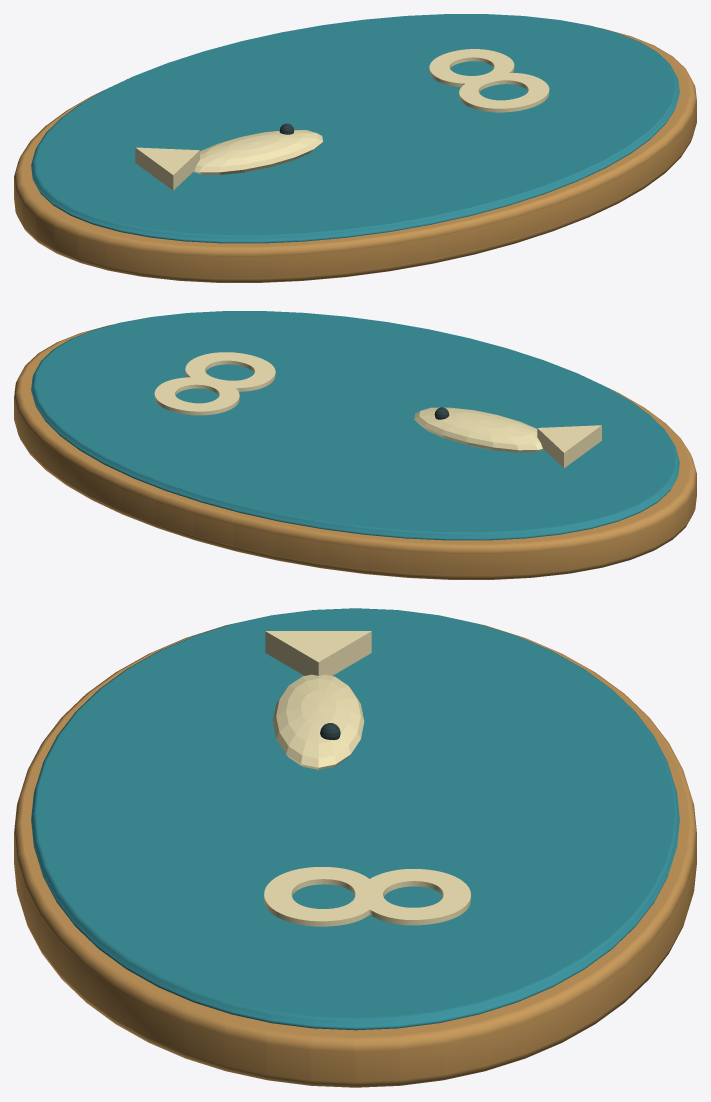
File: ground-8.fbx
3 renders of one model, top to bottom at view 1: azimuth 30°, elevation 25°; view 2: azimuth 150°, elevation 25°; view 3: azimuth 270°, elevation 25°, orthographic. The views are drawn at different scales.
Parts seen in each view (by area): view 1: ground-8; view 2: ground-8; view 3: ground-8.
Boxes of the visible parts, x1,y1,x2,y2 form: ground-8: (14, 14, 696, 282); ground-8: (14, 311, 696, 579); ground-8: (14, 608, 696, 1087).
Bounding box in the file's own units: 2.8 × 0.288 × 1.85.
